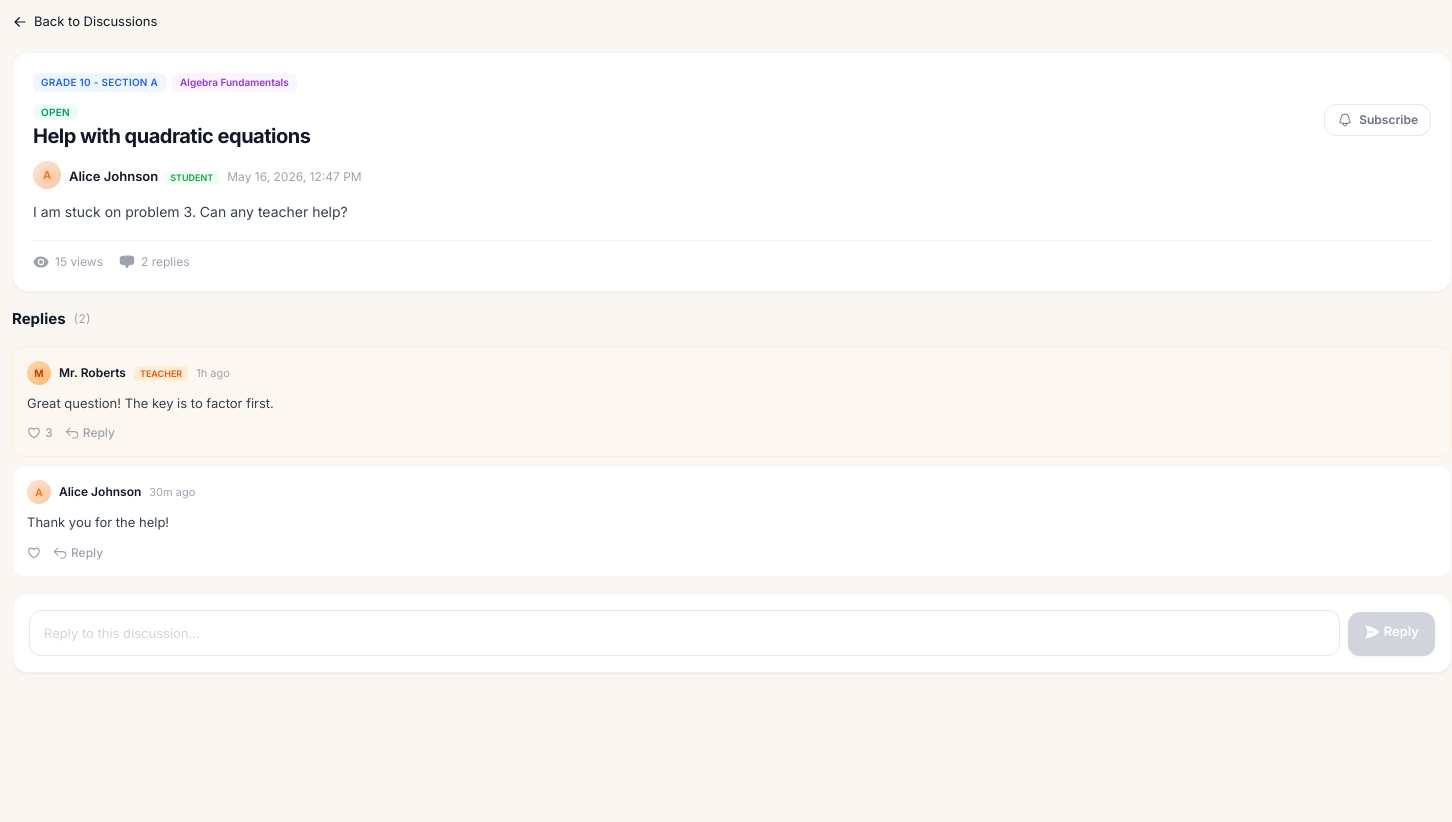
Test: DiscussionThreadPage › Reply submit button becomes enabled when text is entered
Expected: the heading "Help with quadratic equations" is shown, [33,124,310,148]
Type "Here is my answer" into the text box with placeholder "Reply to this discussion...".
click(684, 632); type("Here is my answer")  # box [29,610,1340,656]
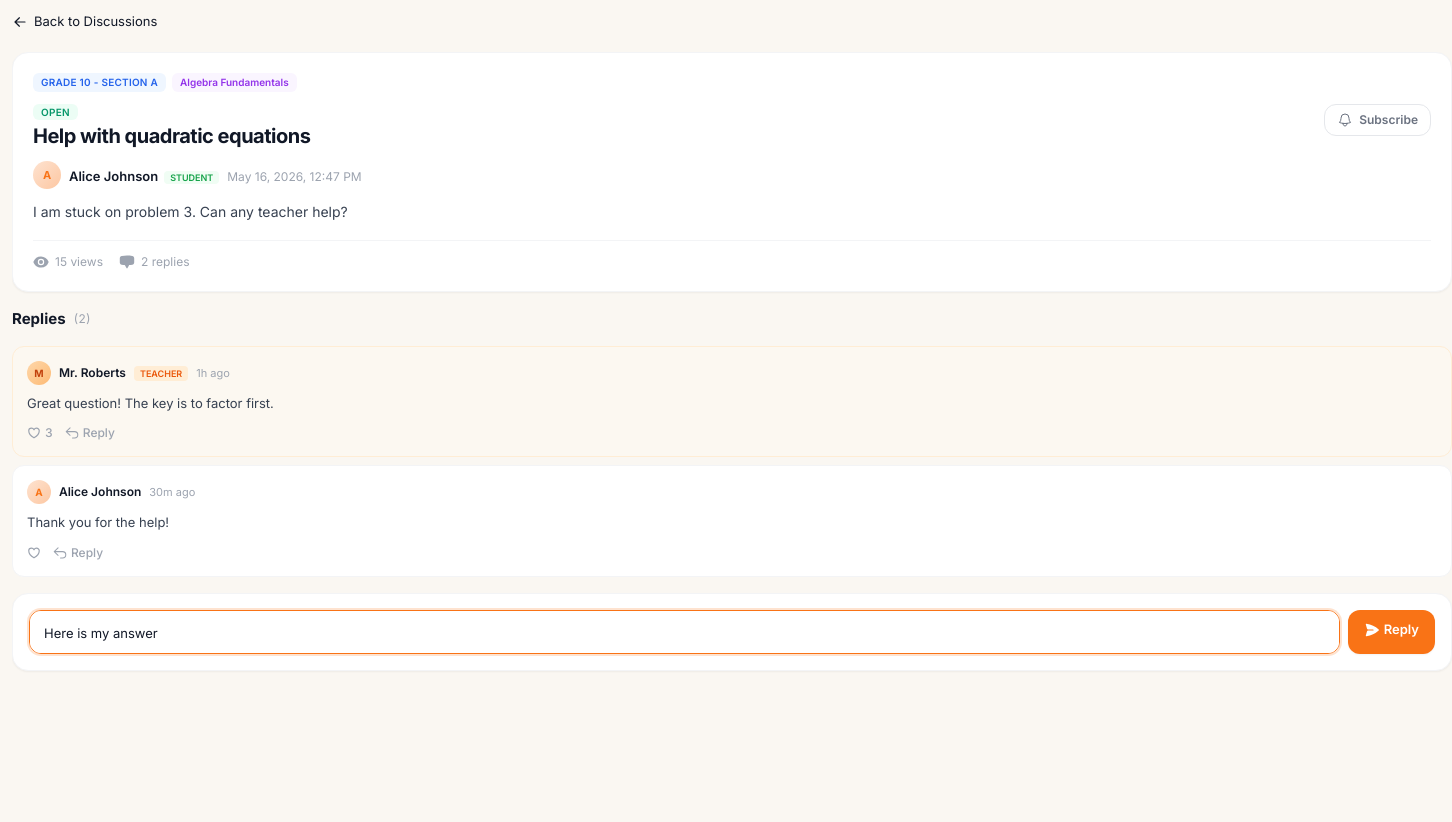
Result: the submit button is enabled at [1348,610,1435,654]
